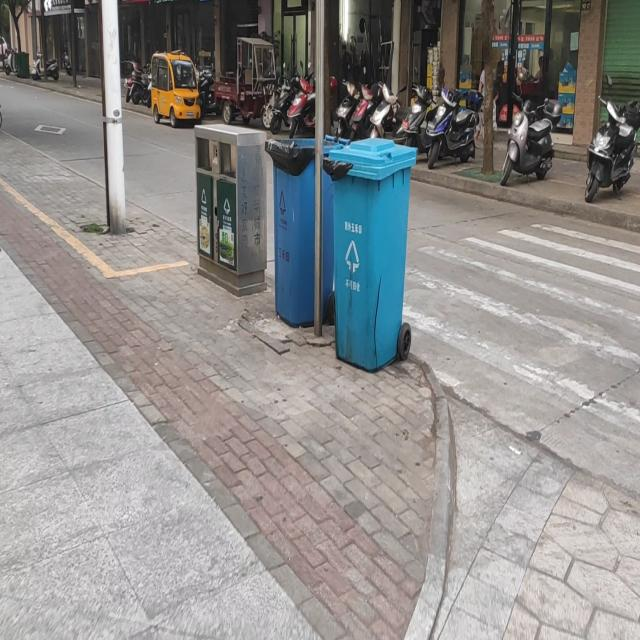ash bin: (327, 134, 418, 371), (264, 136, 338, 330), (191, 124, 268, 298)
car: (150, 52, 202, 126)
motorbike: (583, 73, 638, 204), (500, 72, 562, 186), (427, 64, 484, 170), (370, 60, 406, 141), (404, 66, 437, 154), (270, 61, 298, 135), (31, 46, 59, 80)
pole: (99, 1, 128, 232), (312, 31, 324, 333)
tricycle: (214, 36, 278, 128)
